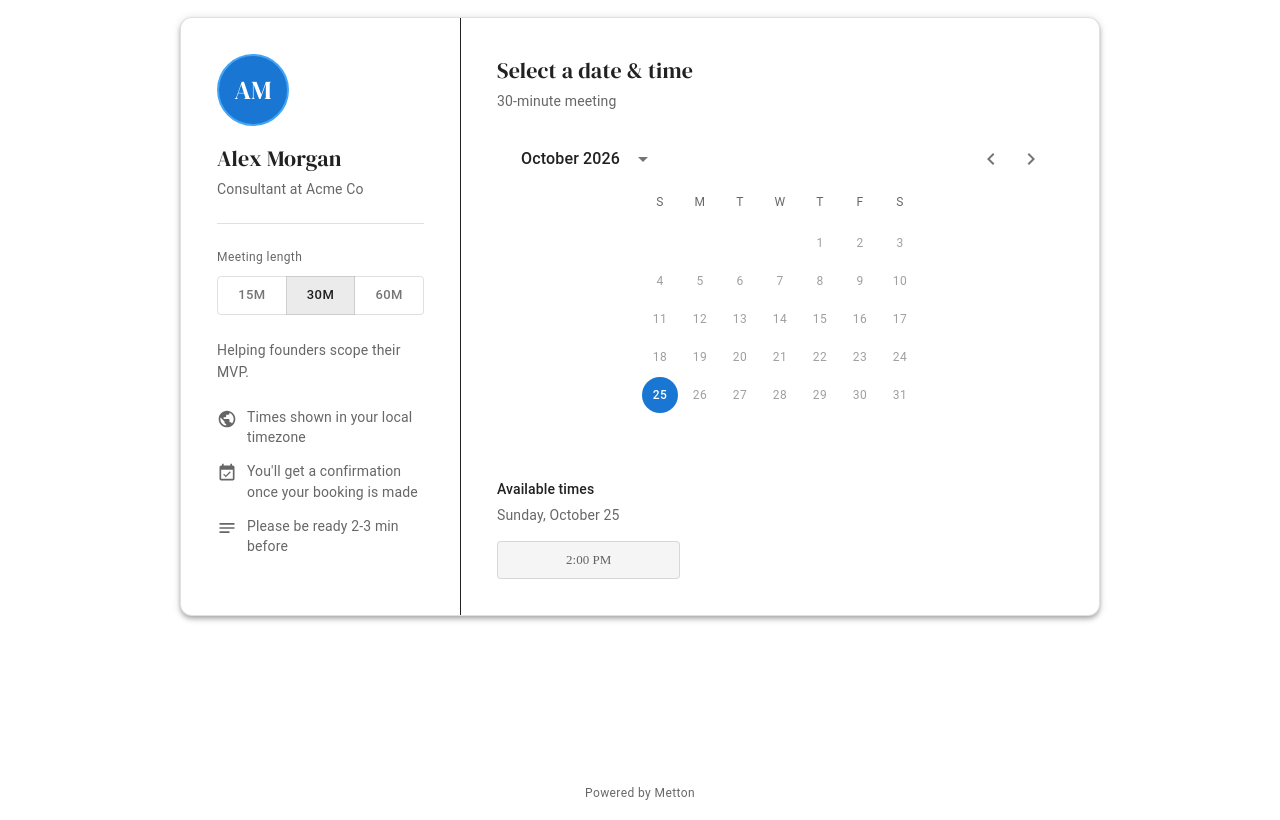
Test: PublicBookingPage › submitting a valid booking shows the success state
The width and height of the screenshot is (1280, 820).
Expected: the text "Alex Morgan" is shown, [217, 143, 342, 173]
Click the text "2:00 PM".
click(589, 560)  # box [497, 541, 680, 579]
(page scrolled)
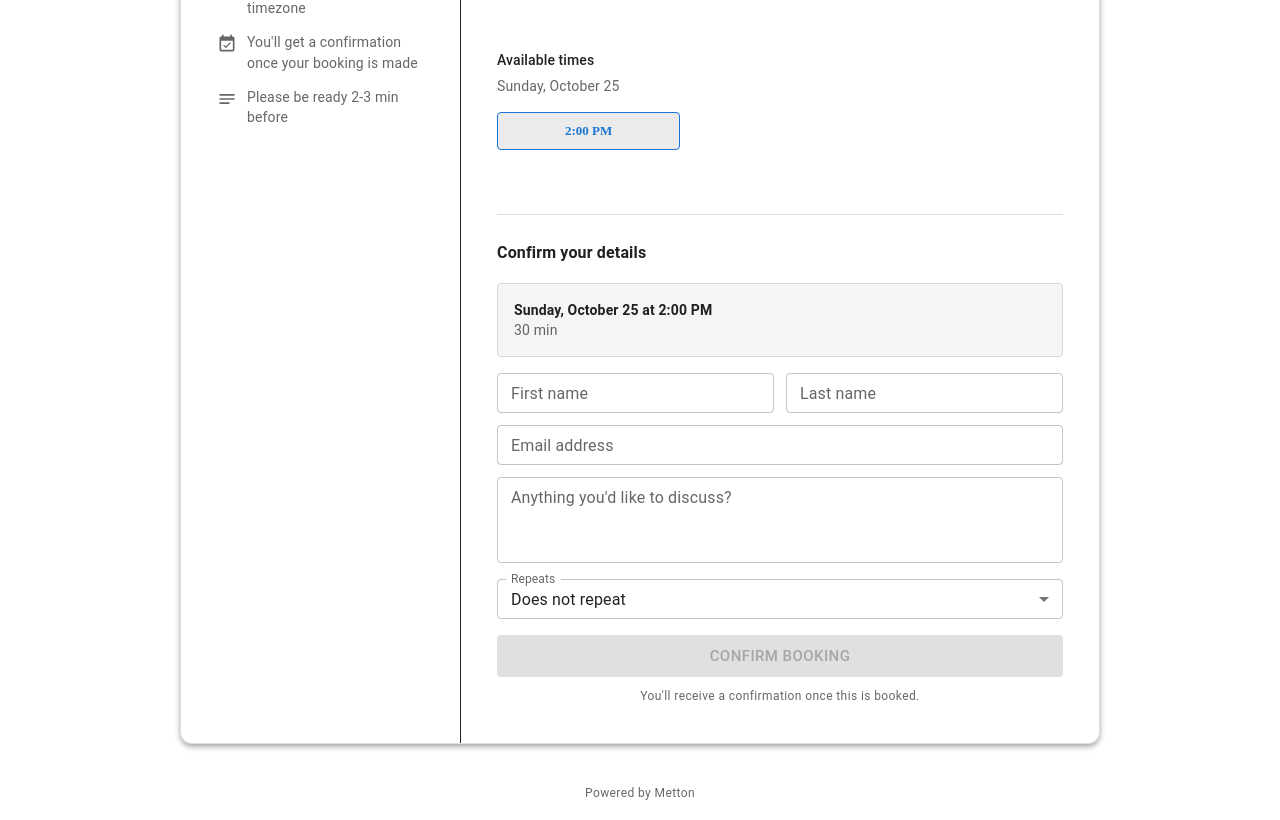
Now the heading "Confirm your details" is shown, box [497, 243, 646, 262]
Type "guest@example.com" into the field labelled "Email address".
click(780, 445); type("guest@example.com")  # box [497, 425, 1063, 465]
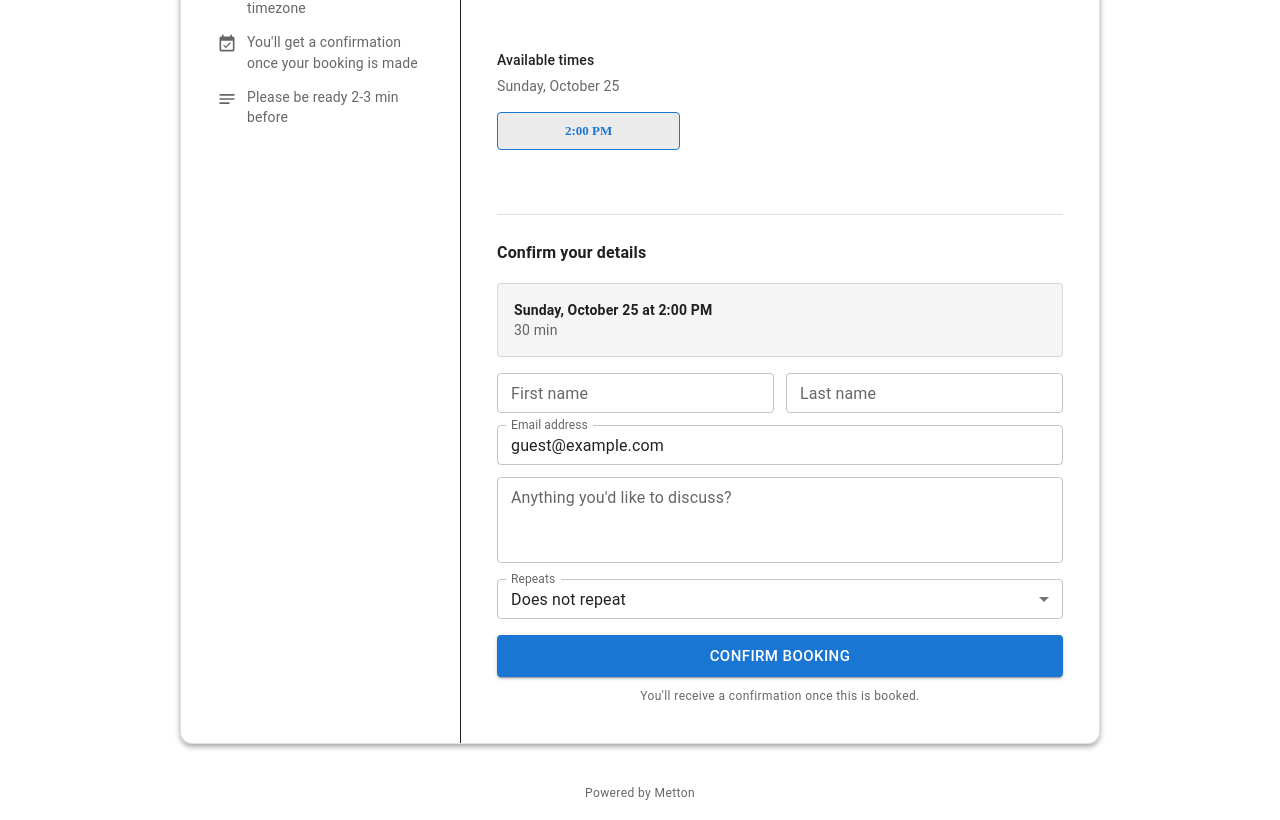
Click the button "Confirm booking".
click(780, 656)  # box [497, 635, 1063, 677]
(page scrolled)
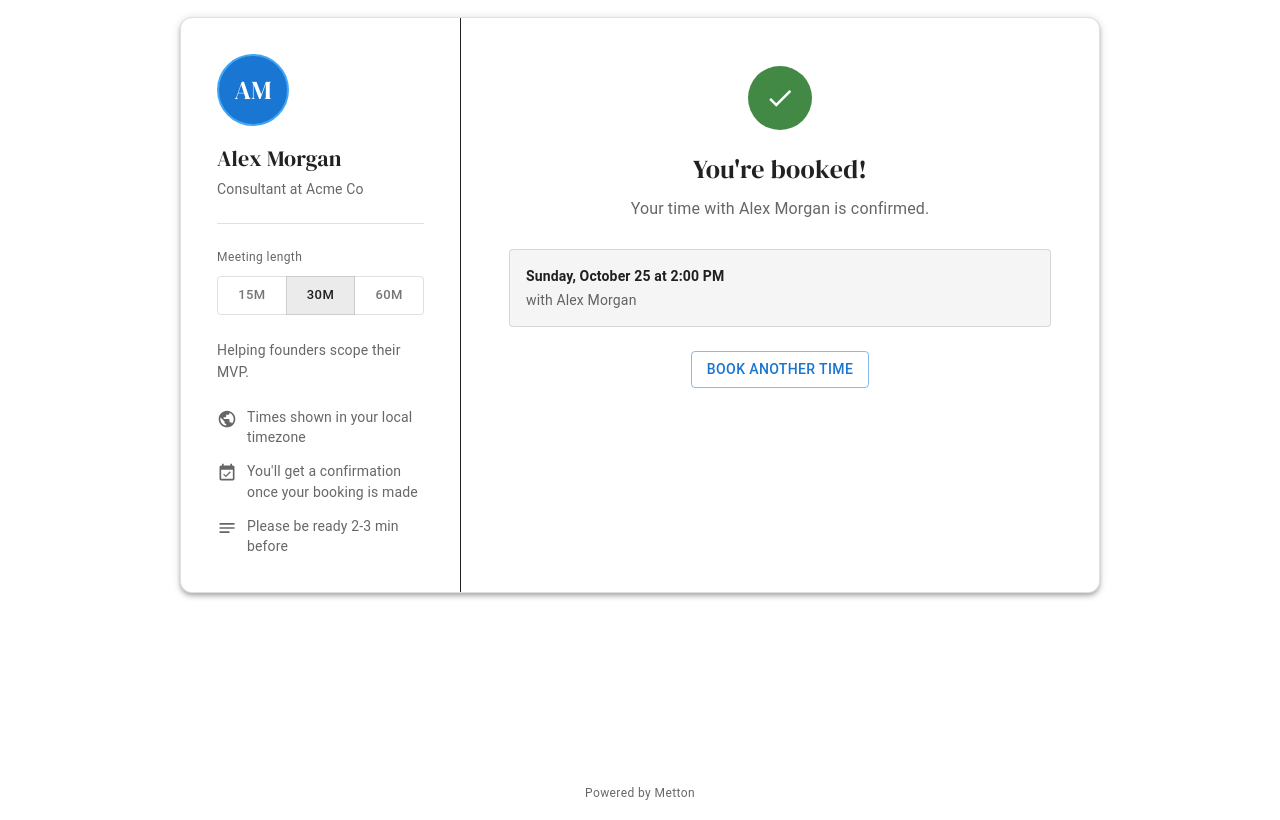
Now the text "You're booked!" is shown, box [693, 151, 867, 187]
